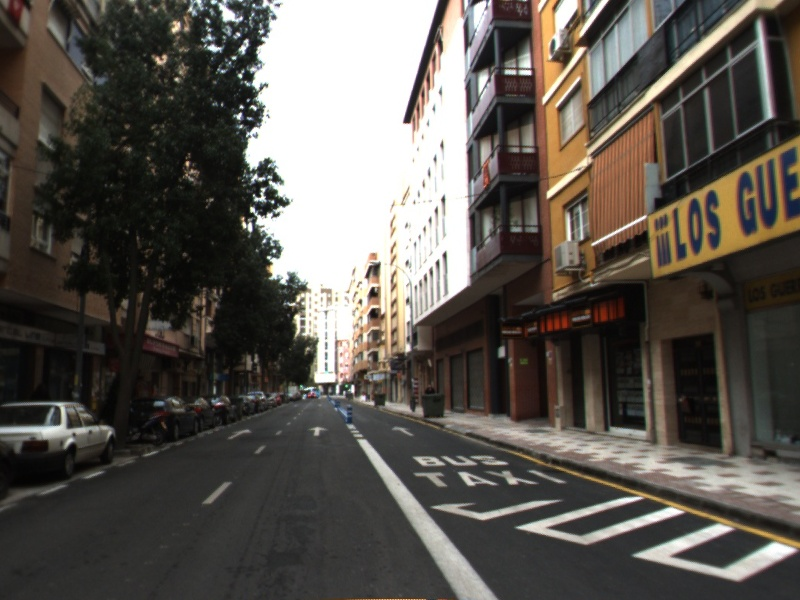STRAIGHT: (226, 427, 254, 441), (389, 424, 416, 438), (306, 424, 331, 438)
